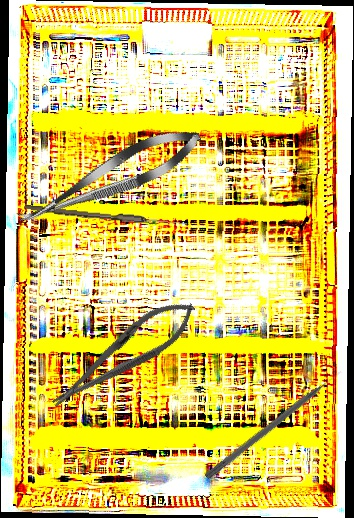Micro Scissor: (10, 117, 209, 239)
Needle Holder: (41, 288, 205, 421)
Pusher: (204, 368, 345, 482)
Surgical Spoon: (23, 204, 188, 228)
